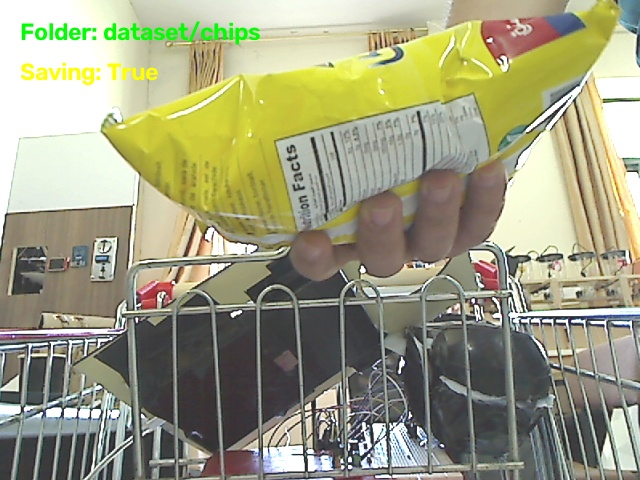chips: (102, 0, 618, 246)
